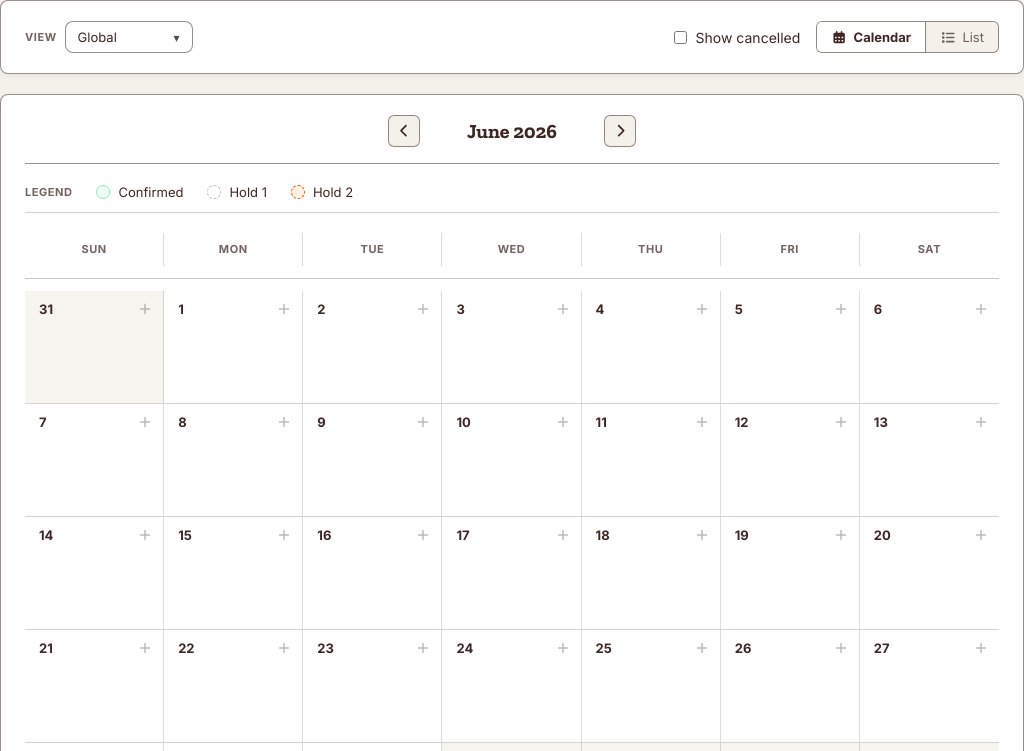
it: BookingCalendarPage › opens create event modal after choosing confirmed event
Click the button with test id "booking-cell-quick-add-2026-06-15" at [284, 535], box [274,525,294,545]
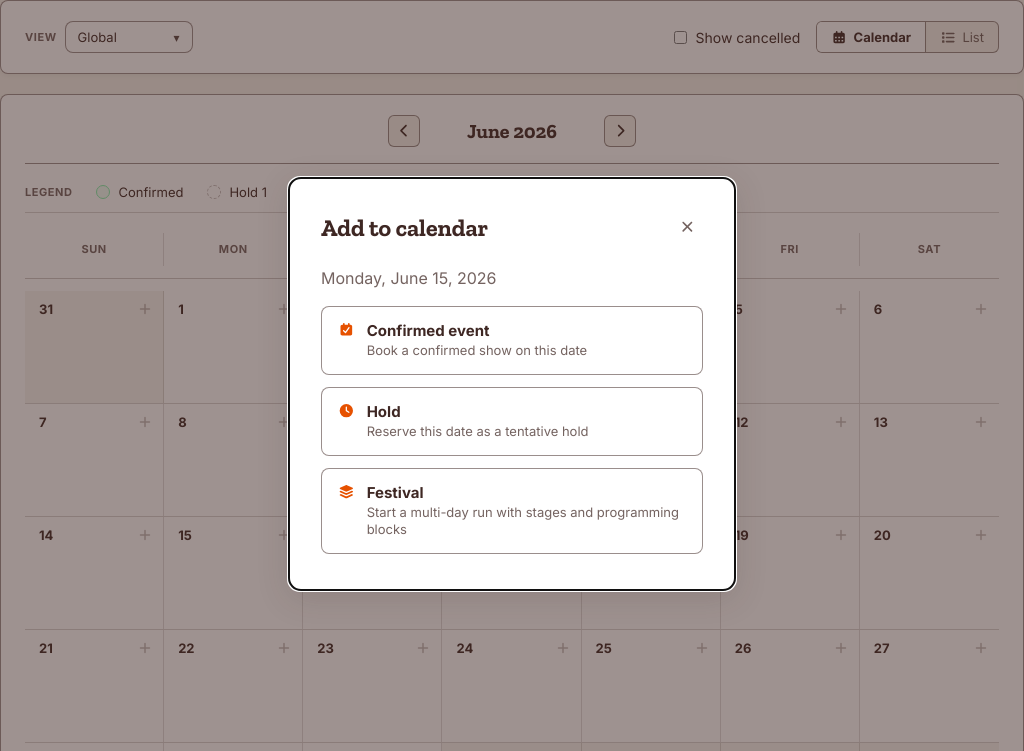
Click the button with test id "booking-placement-type-event" at [512, 341], box [321,306,703,375]
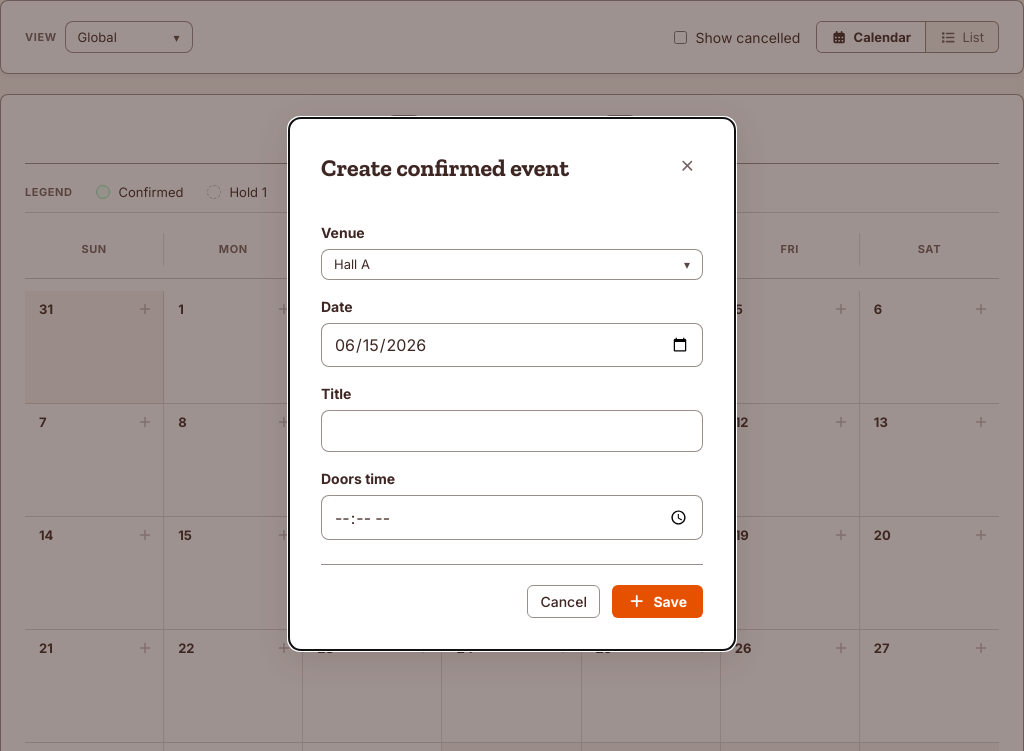
Result: the dialog with test id "booking-placement-type-modal" is gone
Result: the dialog with test id "booking-create-event-modal" is shown at [288,117,736,651]
